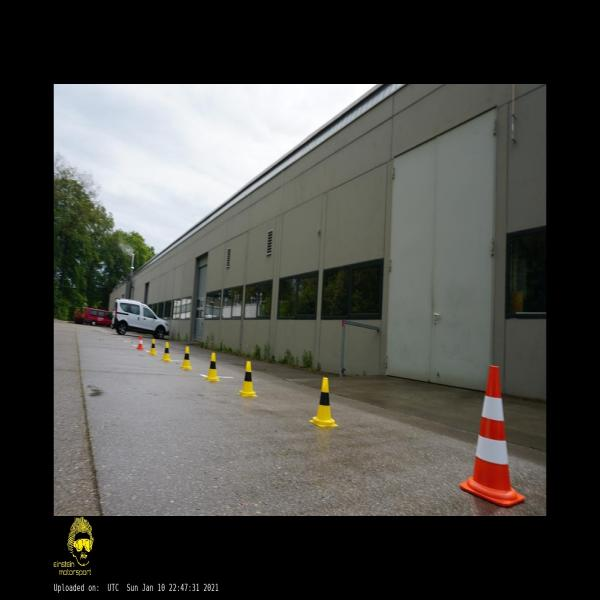large_orange_cone: (459, 365, 526, 507)
orange_cone: (136, 335, 144, 350)
yellow_cone: (310, 377, 338, 426), (238, 360, 256, 397), (205, 352, 219, 382), (180, 346, 192, 369), (162, 341, 170, 362), (148, 338, 156, 355)
